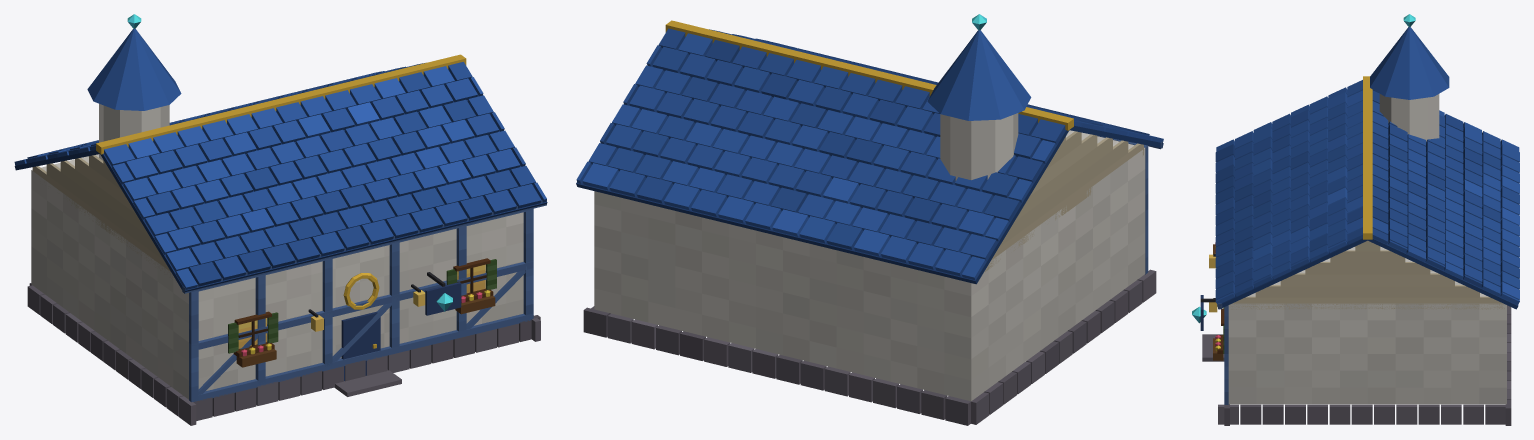
File: b_jeweler.glb
3 renders of one model, left to right at view 1: azimuth 30°, elevation 25°; view 2: azimuth 150°, elevation 25°; view 3: azimuth 270°, elevation 25°, orthographic. The views are drawn at different scales.
Parts seen in each view (by area): view 1: b_jeweler; view 2: b_jeweler; view 3: b_jeweler.
Boxes of the visible parts, x1=… form: b_jeweler: x1=14, y1=14, x2=547, y2=425; b_jeweler: x1=576, y1=14, x2=1163, y2=425; b_jeweler: x1=1192, y1=14, x2=1519, y2=425.
Size of the model in its own units: 5.34 by 4.48 by 4.71.
